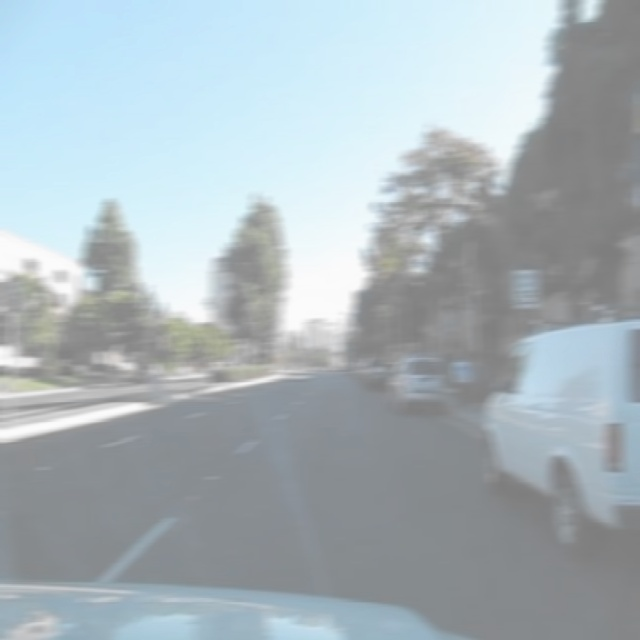speedLimit35: (512, 268, 536, 308), (0, 278, 21, 315)
